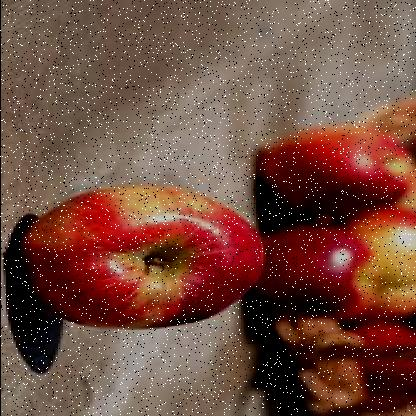apple: (18, 184, 262, 334)
